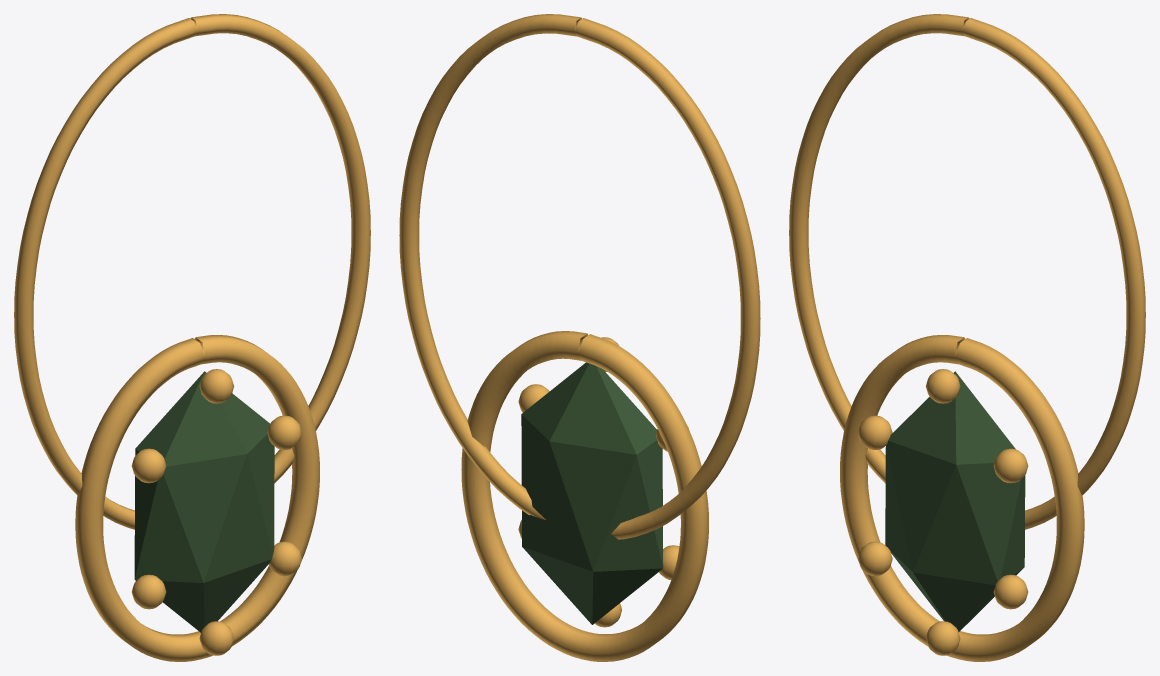
Rendered from relic-1-refined-v15.fbx.
3 views of the same model, side by side, from view 1: azimuth 30°, elevation 25°; view 2: azimuth 150°, elevation 25°; view 3: azimuth 330°, elevation 25° (orthographic).
Visible parts, largest first — view 1: PendantGem, PendantChain, PendantFrame, SettingClaw, SettingClaw.003, SettingClaw.005, SettingClaw.004, SettingClaw.001, SettingClaw.002; view 2: PendantGem, PendantChain, PendantFrame; view 3: PendantGem, PendantChain, PendantFrame, SettingClaw, SettingClaw.001, SettingClaw.003, SettingClaw.002, SettingClaw.004, SettingClaw.005.
Part boxes in pixels (x1,y1,x2,y2): PendantGem: (134,371,274,632); PendantChain: (14,14,370,529); PendantFrame: (75,335,319,661); SettingClaw: (199,369,234,403); SettingClaw.003: (199,621,233,655); SettingClaw.005: (131,448,166,483); SettingClaw.004: (131,574,166,609); SettingClaw.001: (267,415,301,449); SettingClaw.002: (269,541,301,576); PendantGem: (521,362,663,624); PendantChain: (399,14,760,539); PendantFrame: (461,331,708,661); PendantGem: (885,371,1025,631); PendantChain: (789,14,1145,529); PendantFrame: (840,335,1084,661); SettingClaw: (925,369,960,403); SettingClaw.001: (993,448,1028,483); SettingClaw.003: (926,621,960,655); SettingClaw.002: (993,574,1028,609); SettingClaw.004: (858,541,892,576); SettingClaw.005: (858,415,892,449).
Size of the model in its own units: 58.42 by 101 by 11.95.
